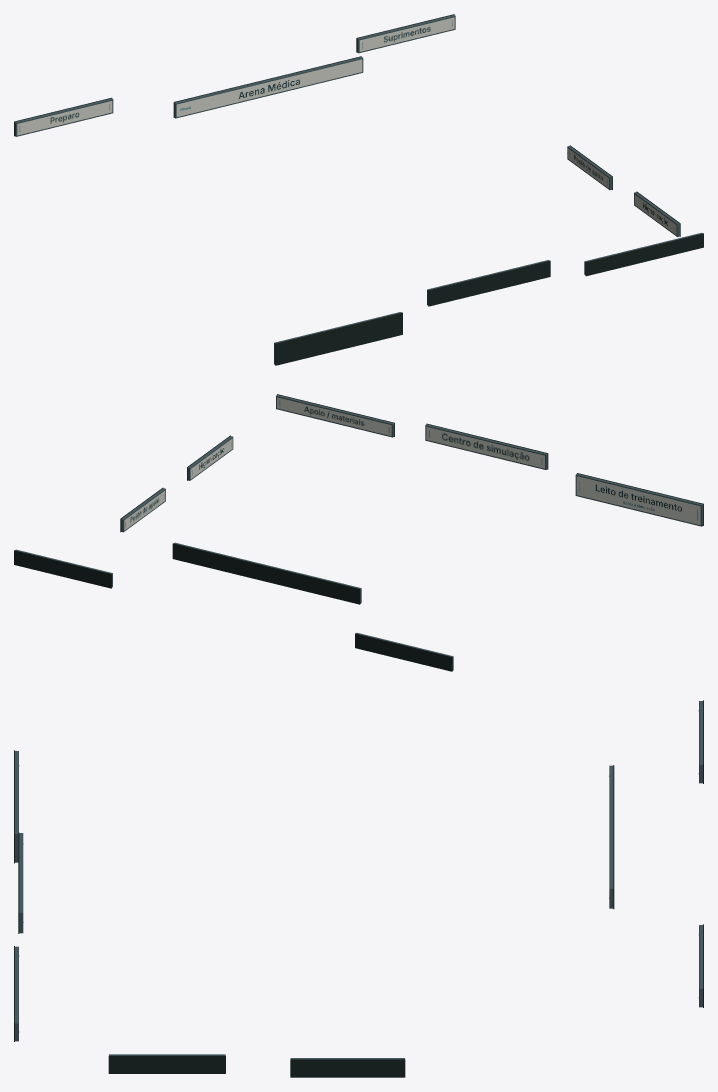
The model's file is sinalizacao-hospital.glb.
3 renders of one model, top to bottom at view 1: azimuth 30°, elevation 25°; view 2: azimuth 150°, elevation 25°; view 3: azimuth 270°, elevation 25°, orthographic. The views are drawn at different scales.
Parts seen in each view (by area): view 1: hospital_Junta.005, hospital_Impressao.005, hospital_Ferragens.005; view 2: hospital_Junta.005, hospital_Impressao.005, hospital_Ferragens.005; view 3: hospital_Junta.005, hospital_Ferragens.005.
Boxes of the visible parts, x1,y1,x2,y2 form: hospital_Junta.005: (14, 14, 703, 365); hospital_Impressao.005: (17, 17, 676, 235); hospital_Ferragens.005: (14, 15, 702, 364); hospital_Junta.005: (14, 394, 703, 671); hospital_Impressao.005: (124, 397, 700, 530); hospital_Ferragens.005: (15, 394, 703, 670); hospital_Junta.005: (14, 700, 703, 1077); hospital_Ferragens.005: (15, 701, 702, 1059).
Size of the model in its own units: 8.63 by 1.44 by 8.64.
3 materials, 1 textured.
